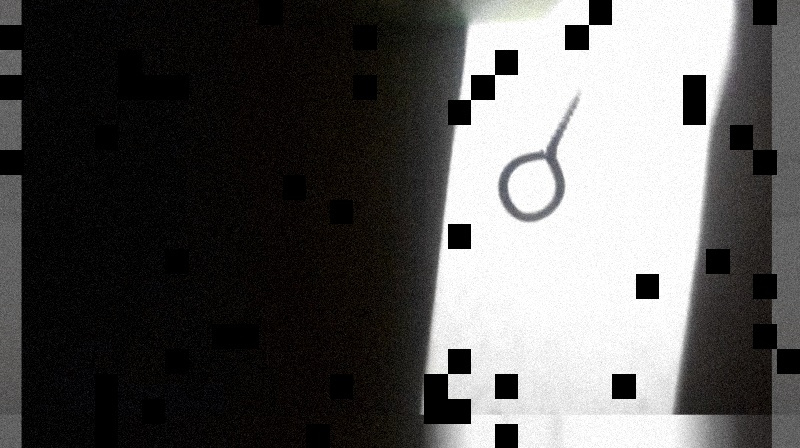O001: (495, 86, 588, 225)
